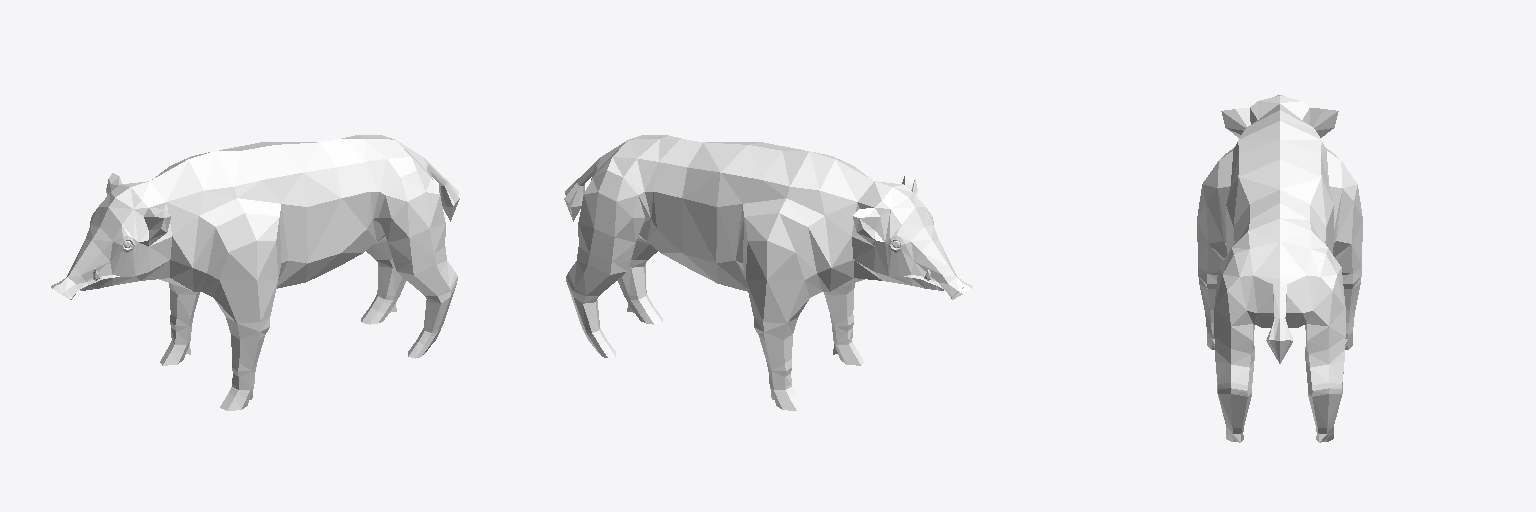
Rendered from boar.obj.
3 views of the same model, side by side, from view 1: azimuth 30°, elevation 25°; view 2: azimuth 150°, elevation 25°; view 3: azimuth 270°, elevation 25° (orthographic).
Visible parts, largest first — view 1: boar_Mesh.006; view 2: boar_Mesh.006; view 3: boar_Mesh.006.
Part boxes in pixels (bbox=[...]): boar_Mesh.006: bbox=[51, 135, 459, 410]; boar_Mesh.006: bbox=[564, 135, 972, 410]; boar_Mesh.006: bbox=[1197, 95, 1362, 442].
Size of the model in its own units: 1.27 by 0.687 by 0.4503.